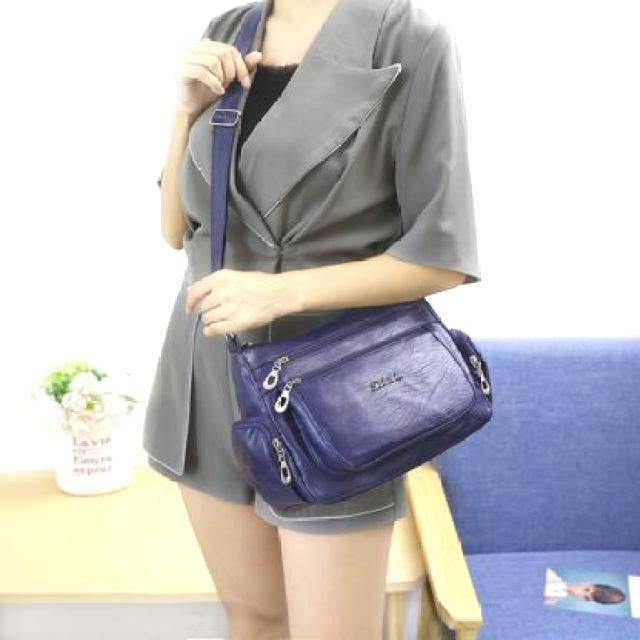hand_noglove: (182, 268, 284, 334), (169, 38, 263, 107)
